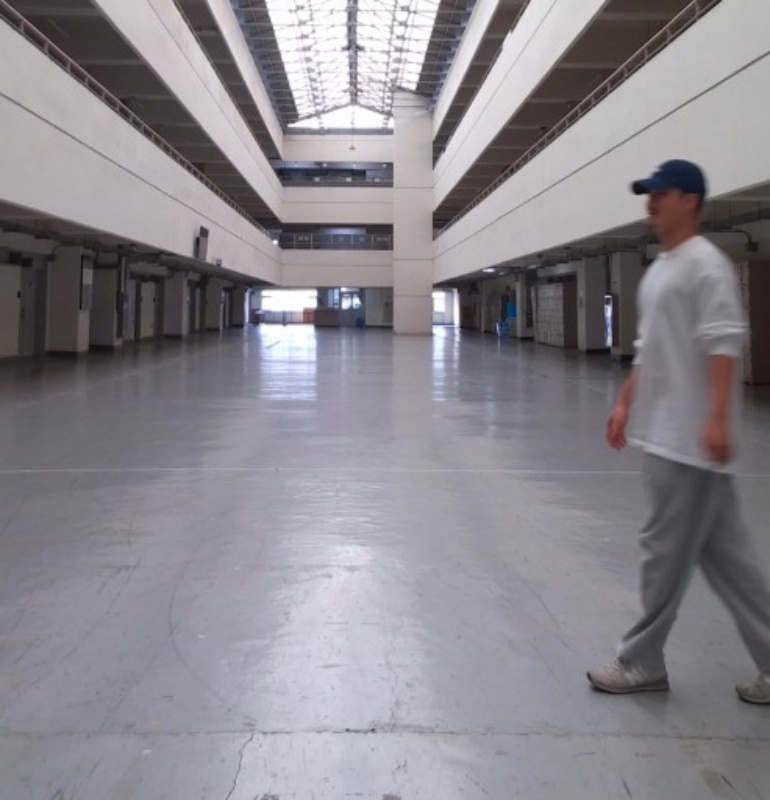person: (585, 156, 770, 704)
